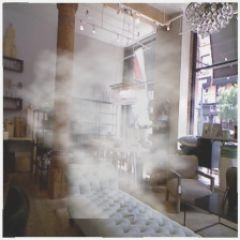smoke: (23, 64, 167, 195)
